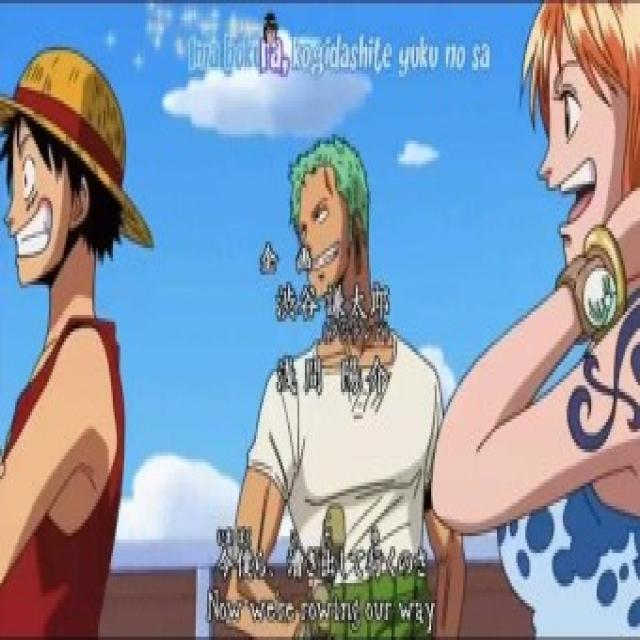Luffy: (0, 36, 161, 301)
Nami: (520, 0, 639, 296)
Zoro: (275, 130, 386, 324)
